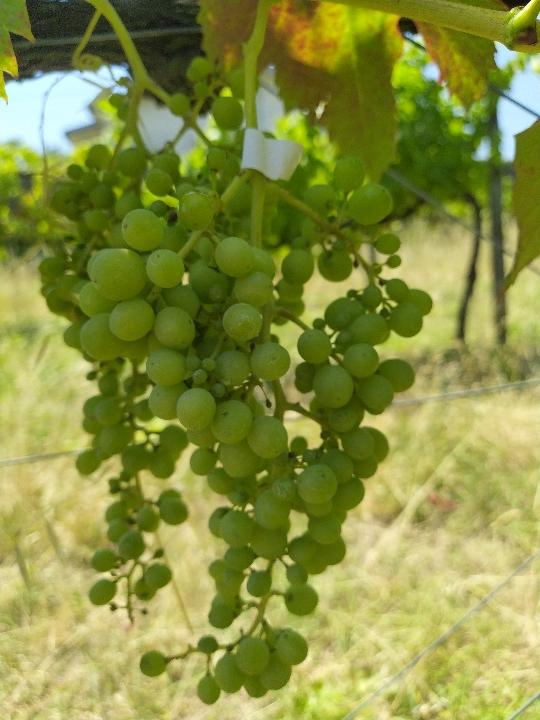grape: (75, 152, 441, 707)
